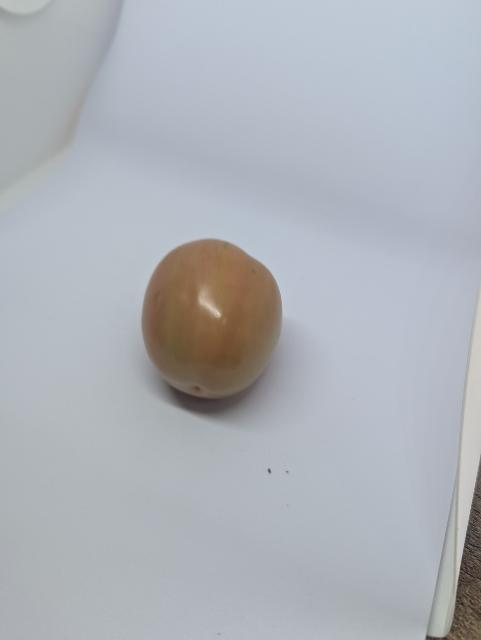turning: (136, 235, 292, 407)
